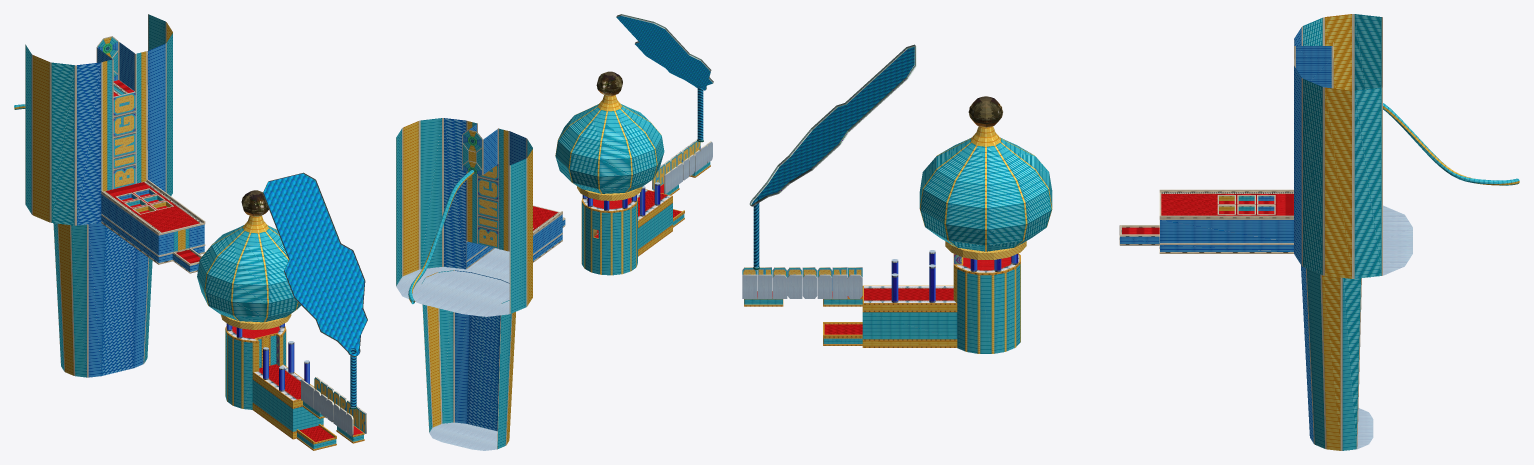
Rendered from Bingo_highway_9.obj.
3 views of the same model, side by side, from view 1: azimuth 30°, elevation 25°; view 2: azimuth 150°, elevation 25°; view 3: azimuth 270°, elevation 25° (orthographic). The views are drawn at different scales.
Visible parts, largest first — view 1: obj2, obj3, Object_2, obj1; view 2: obj2, obj3, Object_2, obj1; view 3: obj2, obj3, Object_2.
Boxes of the visible parts, box(x1,y1,x2,y2) form: obj2: box(14, 14, 367, 450); obj3: box(104, 80, 364, 442); Object_2: box(226, 323, 309, 390); obj1: box(350, 348, 356, 407); obj2: box(396, 14, 713, 450); obj3: box(533, 183, 681, 238); Object_2: box(582, 184, 660, 215); obj1: box(697, 86, 703, 140); obj2: box(742, 14, 1519, 450); obj3: box(757, 192, 1293, 334); Object_2: box(891, 253, 1018, 301).
Size of the model in its own units: 916 by 2144 by 3929.
